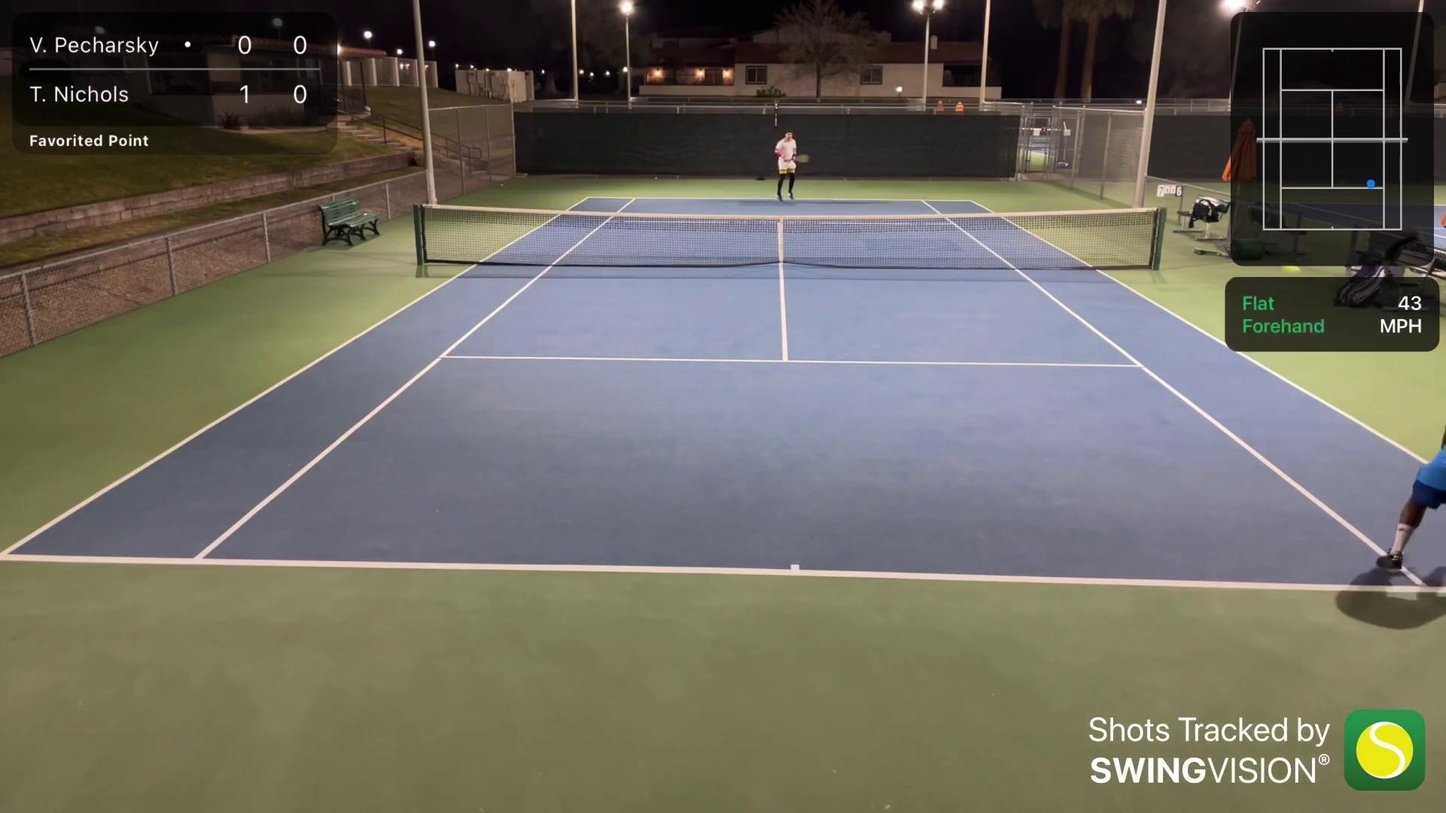ball: (498, 183, 506, 187)
